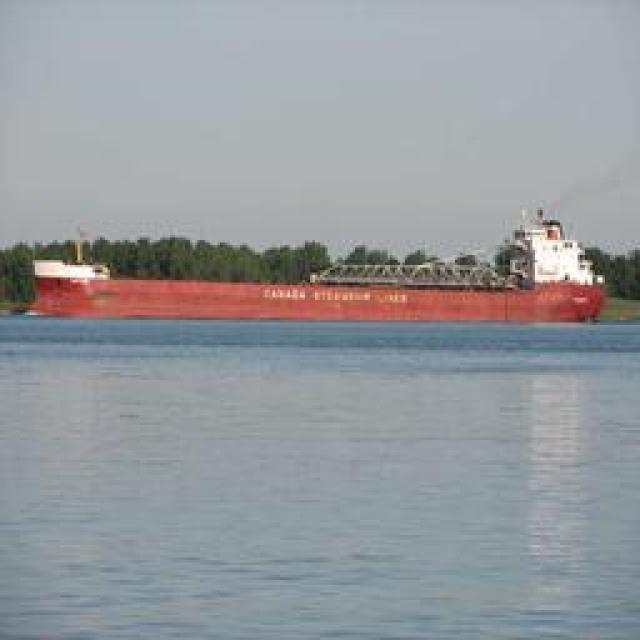ship2: (27, 208, 606, 324)
